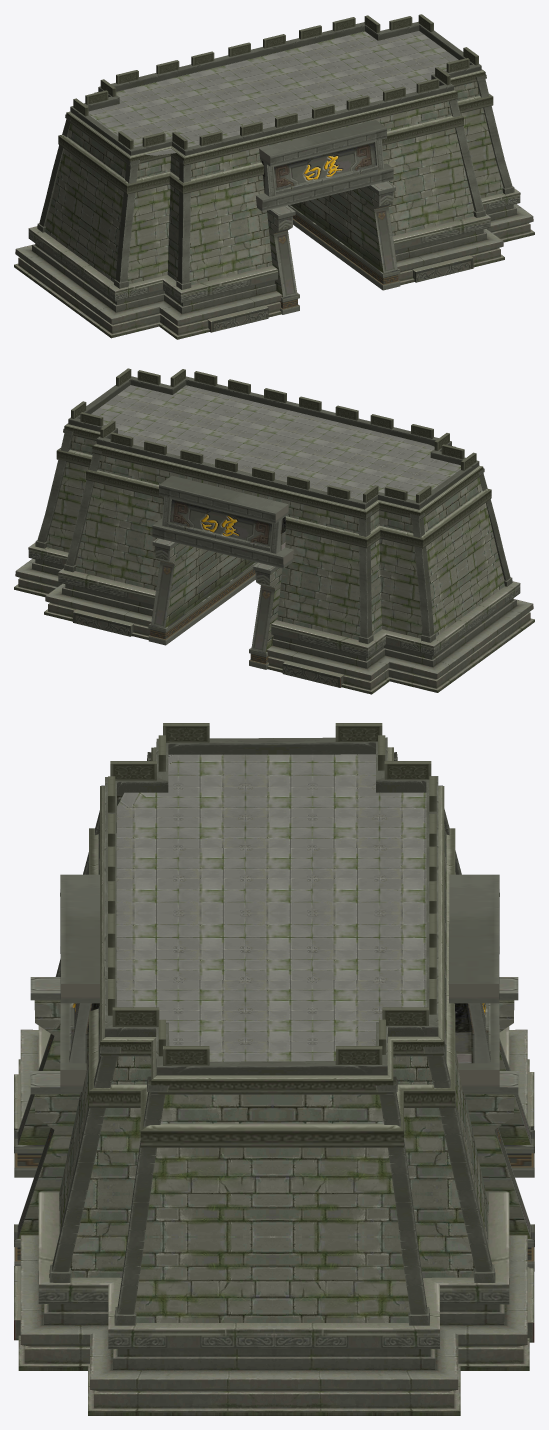
Rendered from Yland3_jz_03 Yland3.FBX.
3 renders of one model, top to bottom at view 1: azimuth 30°, elevation 25°; view 2: azimuth 150°, elevation 25°; view 3: azimuth 270°, elevation 25°, orthographic. The views are drawn at different scales.
Visible parts, largest first — view 1: Yland3_jz_03 Yland3; view 2: Yland3_jz_03 Yland3; view 3: Yland3_jz_03 Yland3.
Boxes of the visible parts, x1,y1,x2,y2 form: Yland3_jz_03 Yland3: (14,14,534,339); Yland3_jz_03 Yland3: (14,368,534,694); Yland3_jz_03 Yland3: (14,723,534,1415).
Size of the model in its own units: 11.67 by 4.57 by 6.48.
